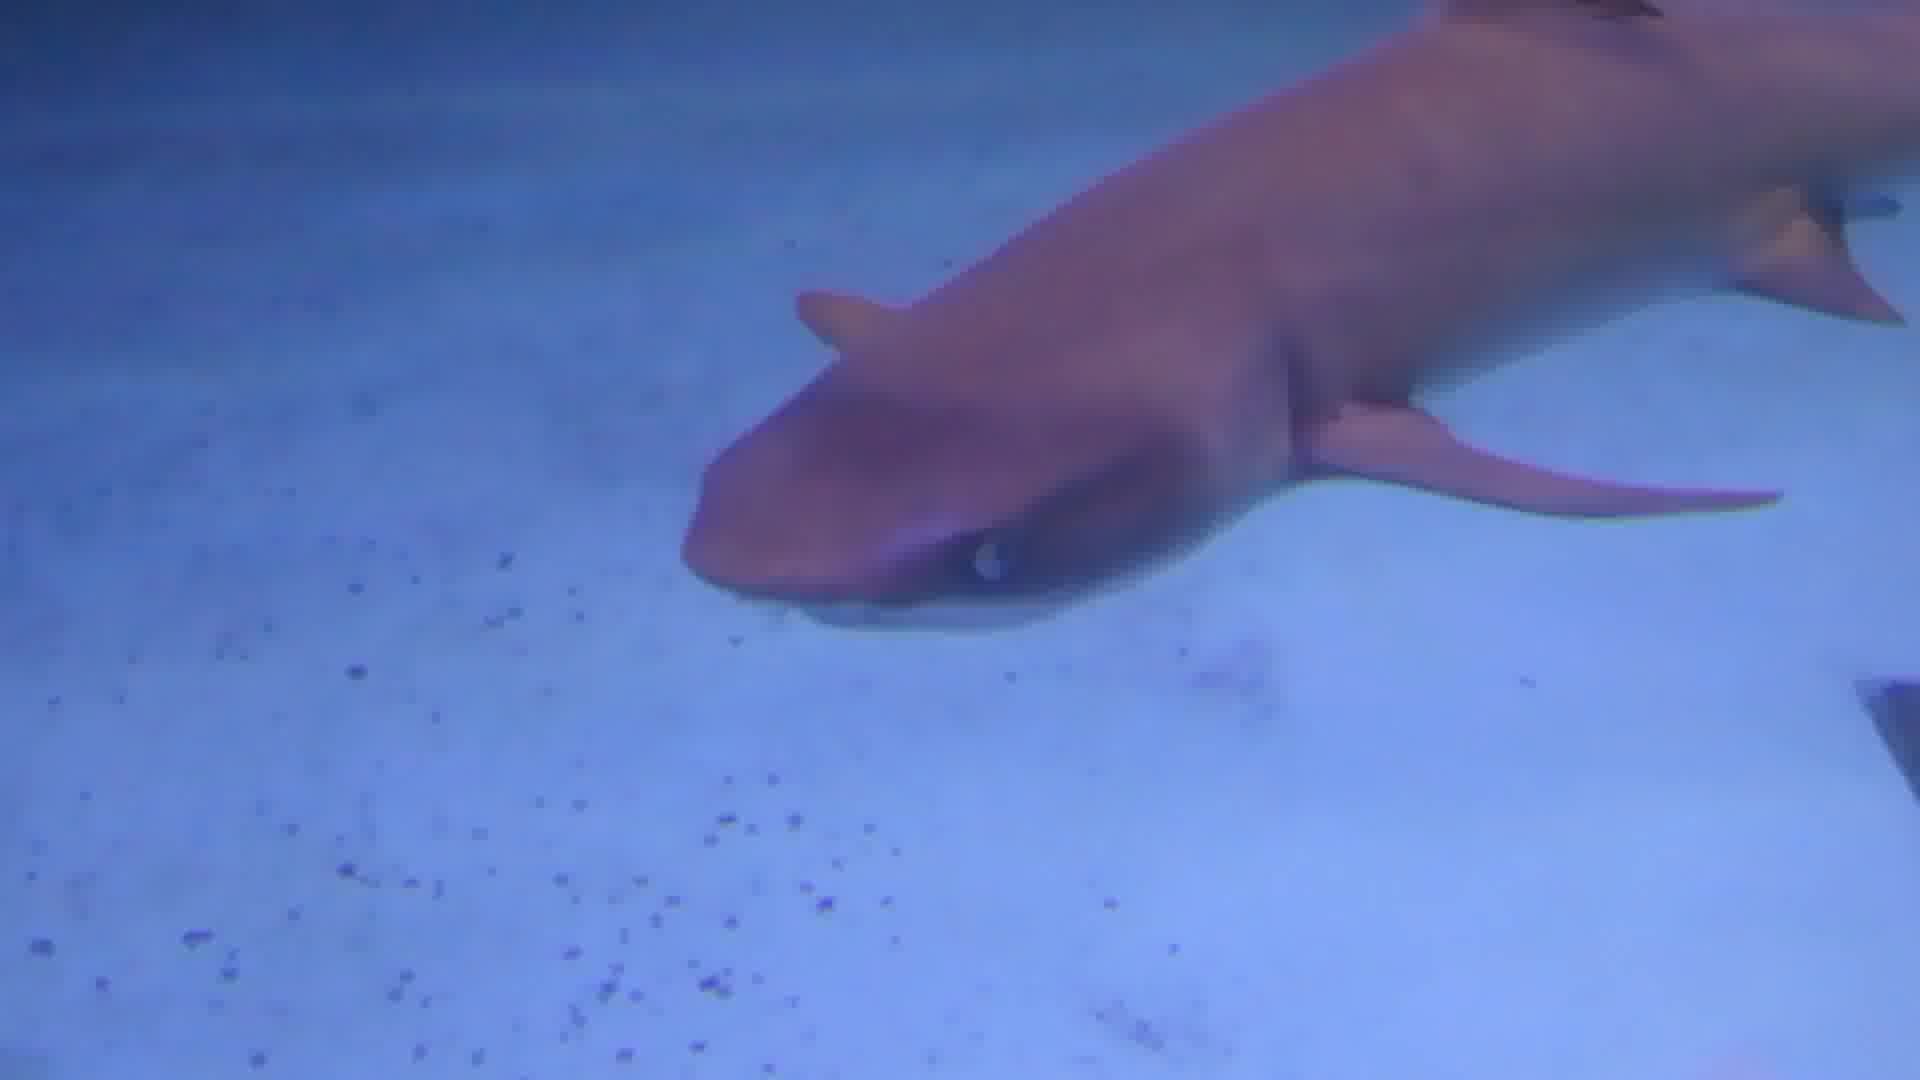Triaenodon obesus: (661, 1, 1920, 645)
